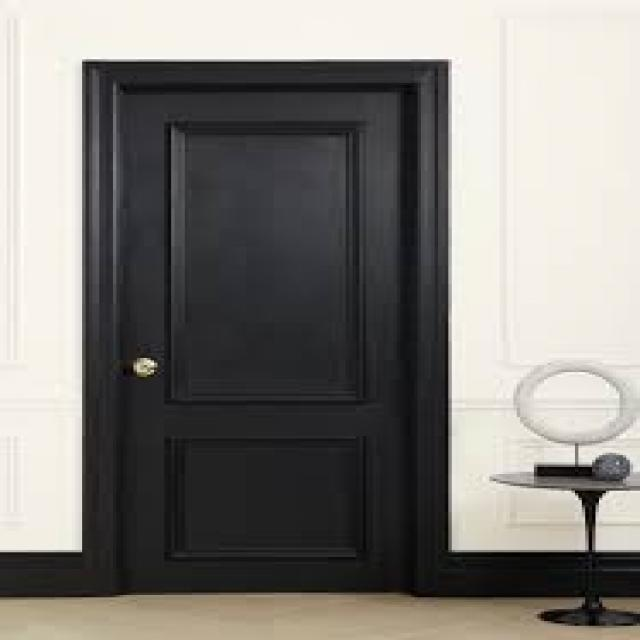Door: (88, 61, 456, 611)
